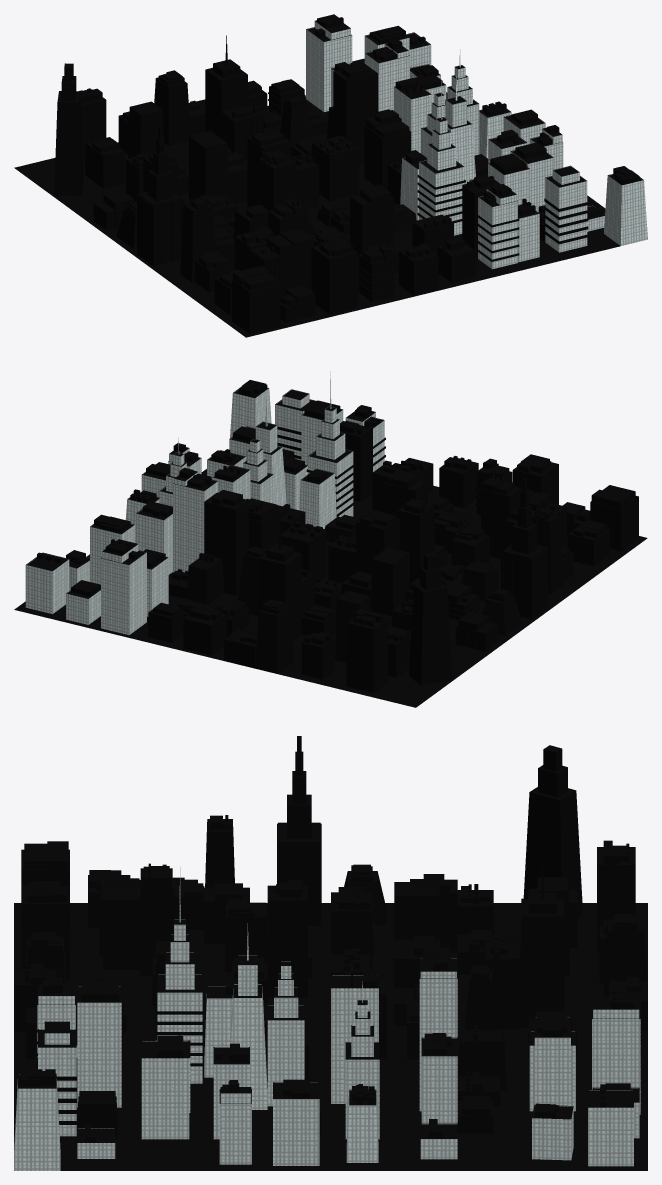
File: City.obj
3 renders of one model, top to bottom at view 1: azimuth 30°, elevation 25°; view 2: azimuth 150°, elevation 25°; view 3: azimuth 270°, elevation 25°, orthographic. The views are drawn at different scales.
Visible parts, largest first — view 1: qTown_basePlane_geo, building_grp grp_building_geo38, building_grp grp_building_geo25, building_grp grp_building_geo9, building_grp grp_building_geo63, building_grp grp_building_geo75, building_grp grp_building_geo3, building_grp grp_building_geo90, building_grp grp_building_geo7, building_grp grp_building_geo10, grp_building_geo1 building_grp, building_grp grp_building_geo53 (+53 smaller); view 2: qTown_basePlane_geo, building_grp grp_building_geo75, building_grp grp_building_geo38, building_grp grp_building_geo90, building_grp grp_building_geo63, building_grp grp_building_geo64, building_grp grp_building_geo84, building_grp grp_building_geo78, building_grp grp_building_geo25, building_grp grp_building_geo86, grp_building_geo1 building_grp, building_grp grp_building_geo92 (+61 smaller); view 3: qTown_basePlane_geo, building_grp grp_building_geo75, building_grp grp_building_geo78, building_grp grp_building_geo17, building_grp grp_building_geo25, building_grp grp_building_geo27, building_grp grp_building_geo38, building_grp grp_building_geo90, building_grp grp_building_geo10, building_grp grp_building_geo41, building_grp grp_building_geo46, building_grp grp_building_geo44 (+51 smaller).
Boxes of the visible parts, x1,y1,x2,y2 form: qTown_basePlane_geo: (14, 92, 620, 337); building_grp grp_building_geo38: (137, 125, 184, 266); building_grp grp_building_geo25: (417, 78, 465, 235); building_grp grp_building_geo9: (544, 165, 588, 252); building_grp grp_building_geo63: (333, 61, 377, 163); building_grp grp_building_geo75: (54, 63, 83, 195); building_grp grp_building_geo3: (311, 236, 357, 314); building_grp grp_building_geo90: (306, 14, 352, 111); building_grp grp_building_geo7: (476, 184, 519, 269); building_grp grp_building_geo10: (604, 166, 647, 245); grp_building_geo1 building_grp: (232, 265, 280, 333); building_grp grp_building_geo53: (364, 109, 411, 189); qTown_basePlane_geo: (14, 469, 647, 707); building_grp grp_building_geo75: (409, 552, 452, 685); building_grp grp_building_geo38: (501, 478, 548, 619); building_grp grp_building_geo90: (101, 539, 146, 634); building_grp grp_building_geo63: (204, 490, 248, 595); building_grp grp_building_geo64: (173, 467, 217, 572); building_grp grp_building_geo84: (346, 609, 387, 692); building_grp grp_building_geo78: (259, 519, 301, 640); building_grp grp_building_geo25: (306, 371, 354, 517); building_grp grp_building_geo86: (255, 599, 293, 673); grp_building_geo1 building_grp: (590, 485, 638, 551); building_grp grp_building_geo92: (25, 552, 69, 613); qTown_basePlane_geo: (14, 903, 647, 1170); building_grp grp_building_geo75: (523, 745, 582, 918); building_grp grp_building_geo78: (521, 856, 564, 1027); building_grp grp_building_geo17: (77, 979, 121, 1107); building_grp grp_building_geo25: (156, 867, 204, 1083); building_grp grp_building_geo27: (141, 1036, 189, 1139); building_grp grp_building_geo38: (277, 736, 321, 925); building_grp grp_building_geo90: (592, 990, 640, 1114); building_grp grp_building_geo10: (14, 1069, 60, 1170); building_grp grp_building_geo41: (267, 880, 307, 998); building_grp grp_building_geo46: (273, 1079, 319, 1165); building_grp grp_building_geo44: (267, 961, 304, 1106).
Size of the model in its own units: 50 by 18.29 by 50.
